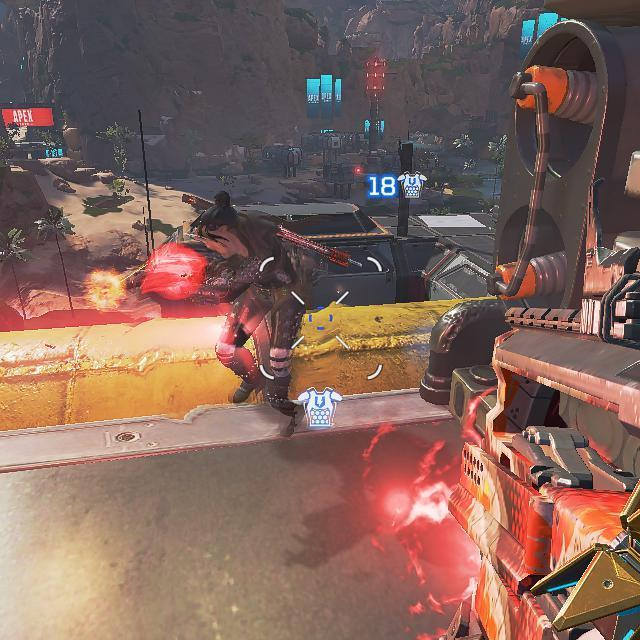avatar: (180, 190, 305, 436)
object: (138, 240, 208, 302)
